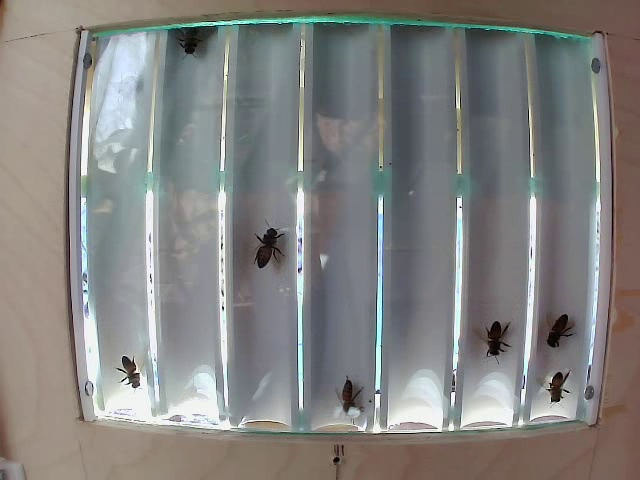bee: (251, 208, 293, 281), (331, 365, 376, 421), (174, 22, 221, 72), (546, 361, 583, 405), (476, 306, 505, 357), (543, 304, 574, 347)
